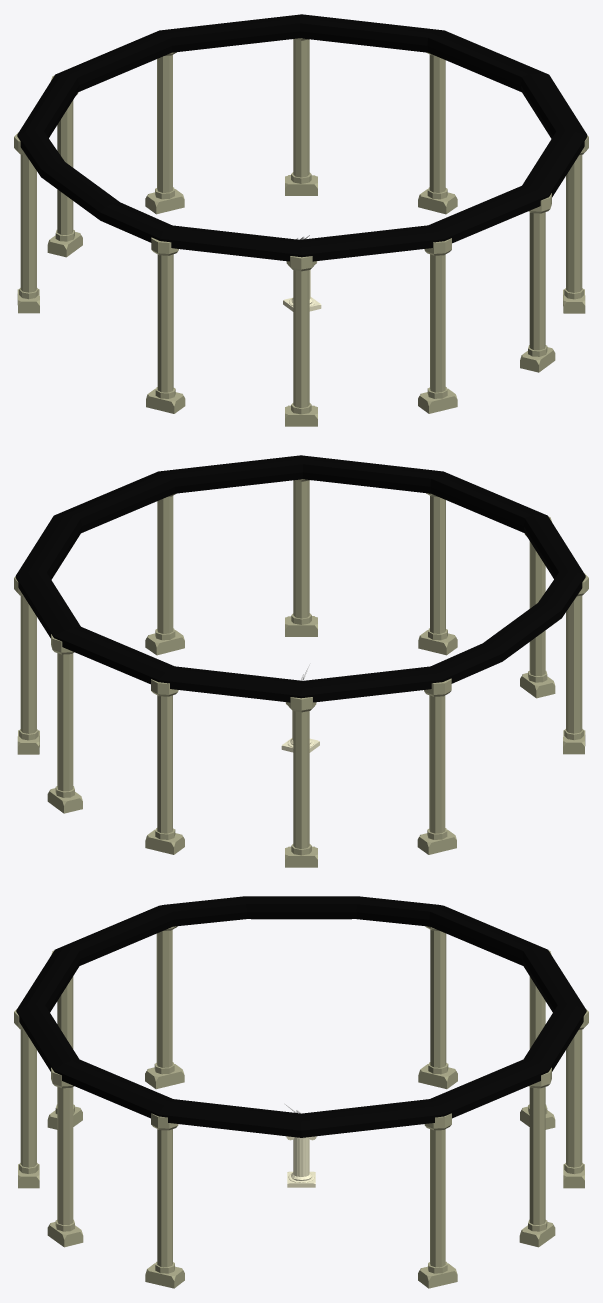
The model's file is ZeusAltar.fbx.
3 renders of one model, top to bottom at view 1: azimuth 30°, elevation 25°; view 2: azimuth 150°, elevation 25°; view 3: azimuth 270°, elevation 25°, orthographic.
Parts seen in each view (by area): view 1: Porticus, Pillars; view 2: Porticus, Pillars; view 3: Porticus, Pillars, Pedestal.
Part boxes in pixels (<box>): Porticus: <box>17,14,587,261</box>; Pillars: <box>14,38,588,426</box>; Porticus: <box>15,455,585,702</box>; Pillars: <box>14,479,588,867</box>; Porticus: <box>16,896,586,1137</box>; Pillars: <box>14,926,588,1288</box>; Pedestal: <box>286,1136,316,1187</box>.
Bounding box in the file's own units: 1804 × 637 × 1879.
